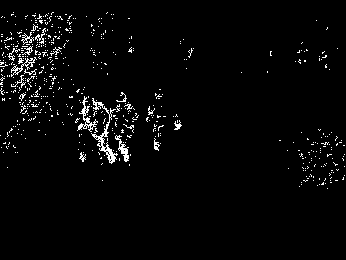person: (79, 92, 115, 168), (144, 86, 182, 154), (112, 89, 139, 171)
